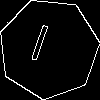I: (23, 23, 52, 71)
